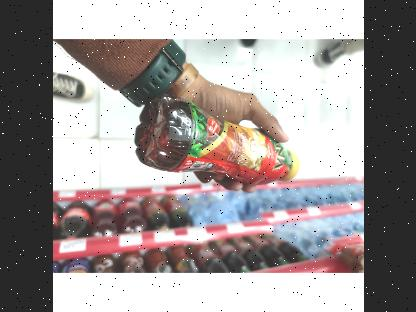Plastic Bottle: (126, 108, 308, 196)
